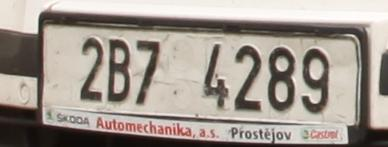2: (235, 44, 264, 113), (79, 36, 104, 107)
4: (205, 42, 231, 108)
7: (133, 37, 163, 109)
8: (266, 43, 296, 112)
9: (300, 46, 331, 115)
B: (107, 37, 131, 105)
